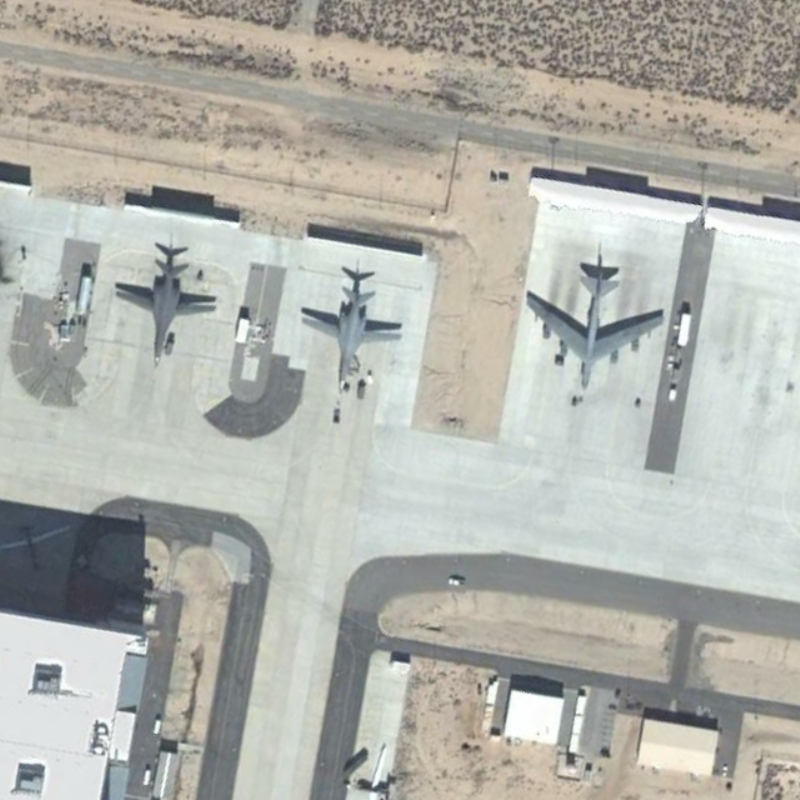A10: (107, 250, 222, 372), (295, 282, 409, 398)
A8: (517, 261, 672, 397)
